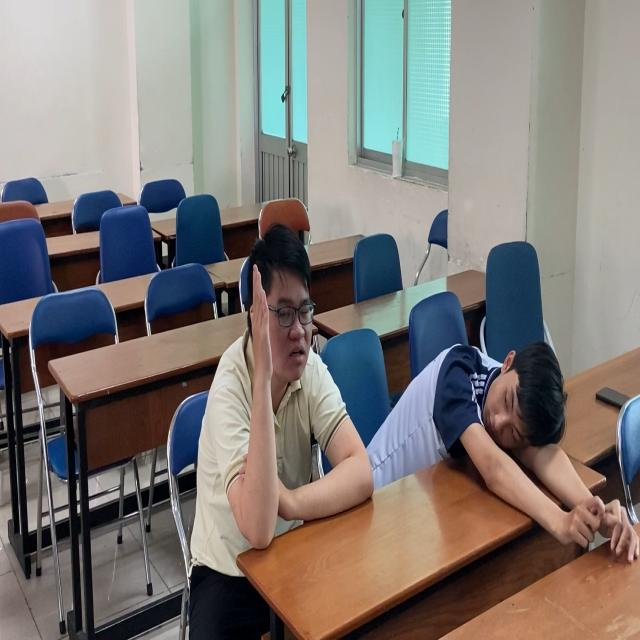raise_hand: (209, 225, 378, 546)
sleep: (378, 333, 640, 557)
